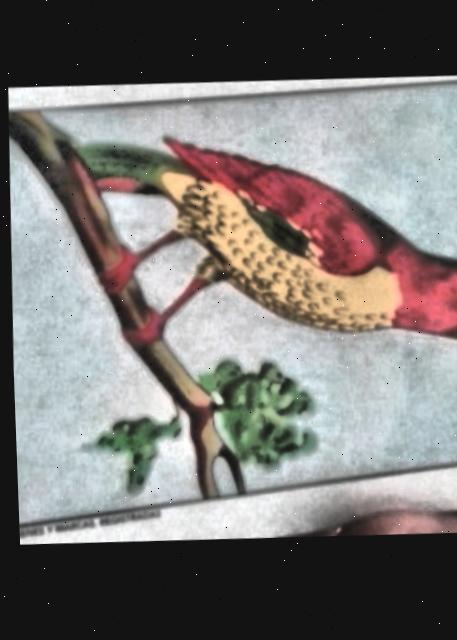El Pajaro: (7, 93, 457, 527)
